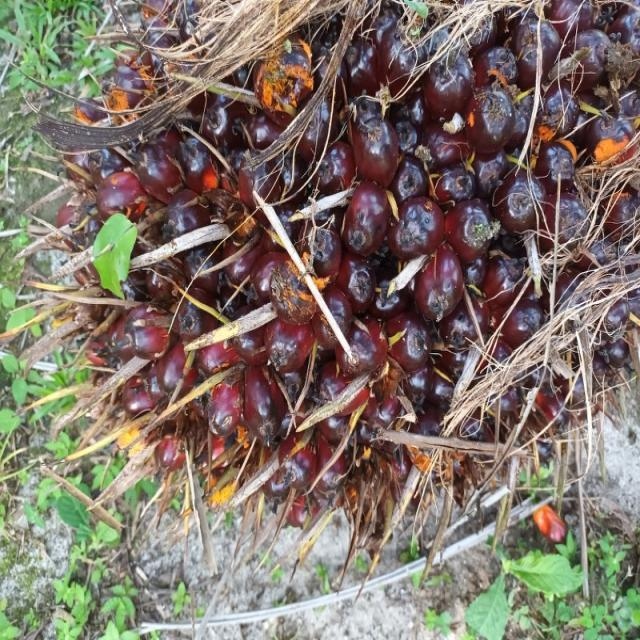fraksi 1: (41, 0, 640, 530)
